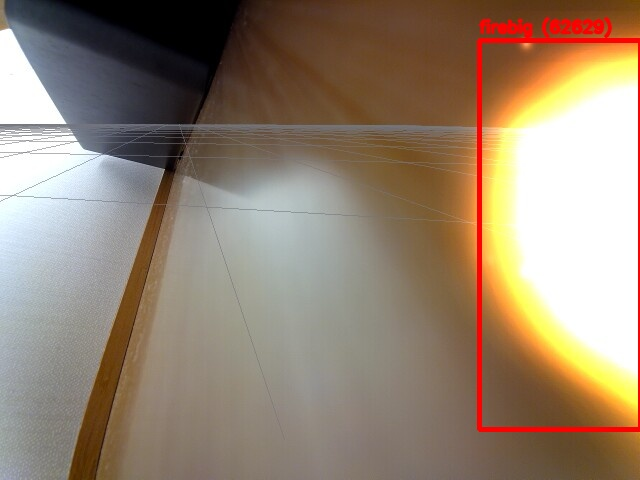firebig: (479, 40, 640, 429)
